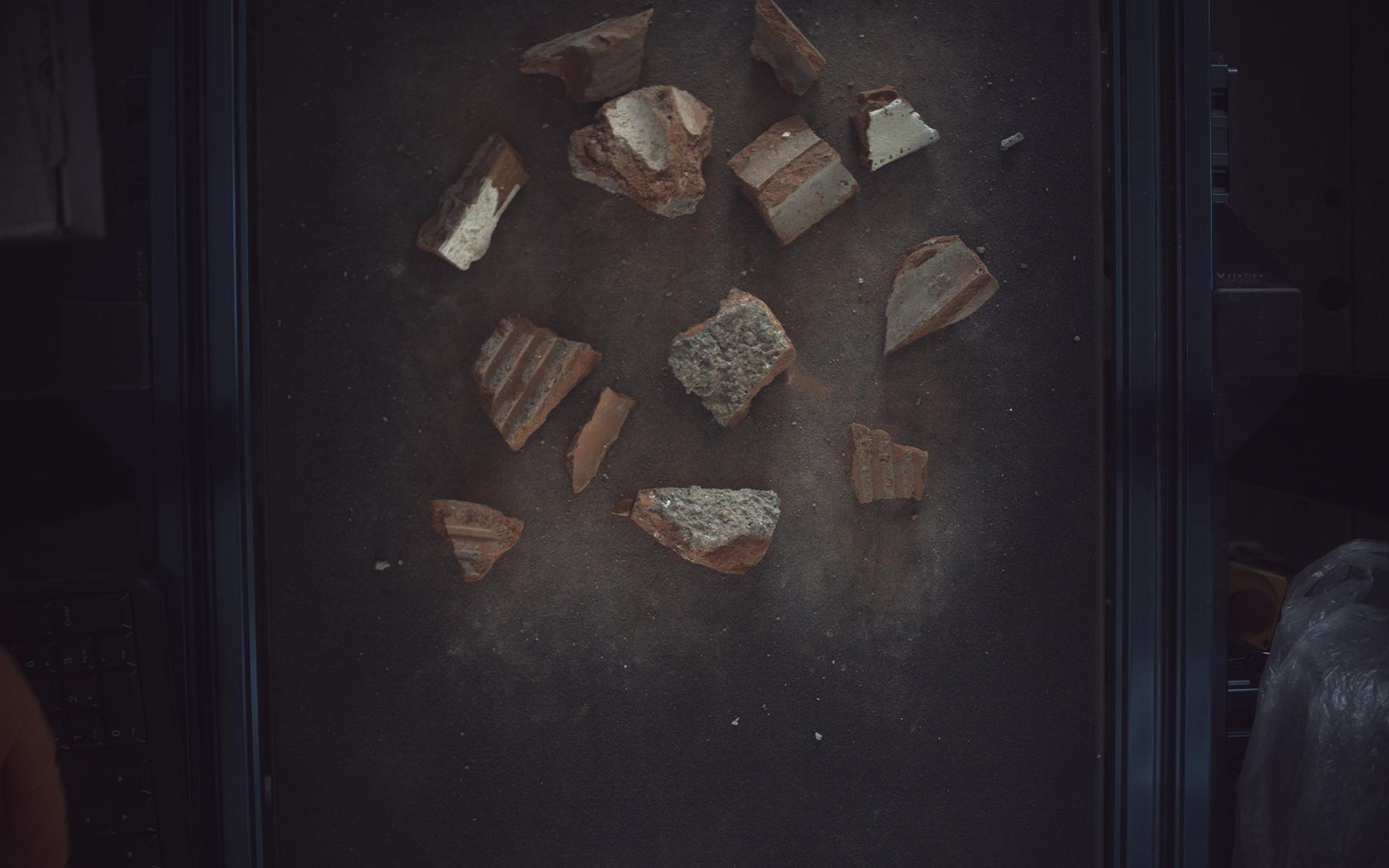brick: (569, 84, 715, 217), (669, 287, 797, 427), (471, 317, 602, 451), (729, 114, 861, 245), (417, 132, 529, 269), (616, 486, 781, 574), (886, 235, 1002, 355), (519, 7, 654, 101), (851, 85, 941, 170), (432, 500, 524, 583), (567, 388, 636, 493), (752, 1, 827, 95), (851, 423, 930, 504)
